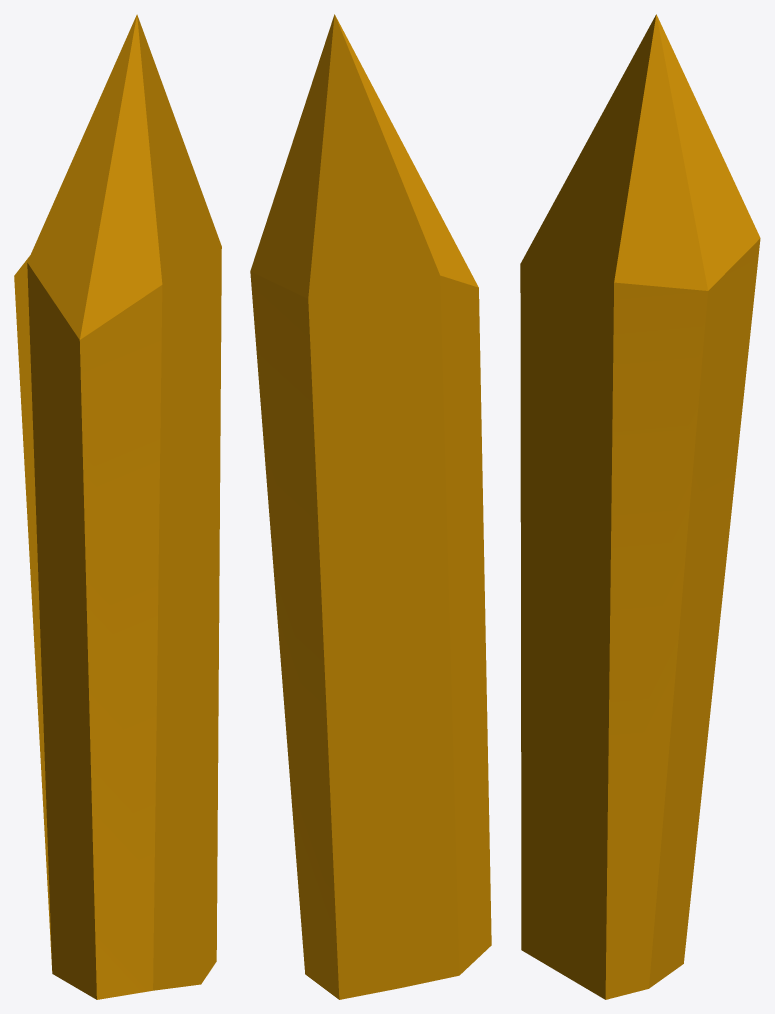
The model's file is Big_Crystal_3_LOD.fbx.
3 renders of one model, left to right at view 1: azimuth 30°, elevation 25°; view 2: azimuth 150°, elevation 25°; view 3: azimuth 270°, elevation 25°, orthographic. The views are drawn at different scales.
Parts seen in each view (by area): view 1: pCube75; view 2: pCube75; view 3: pCube75.
Part boxes in pixels (x1=…): pCube75: x1=14, y1=14, x2=221, y2=999; pCube75: x1=250, y1=14, x2=491, y2=999; pCube75: x1=520, y1=14, x2=760, y2=999.
Bounding box in the file's own units: 2.94 × 15.43 × 3.5.
